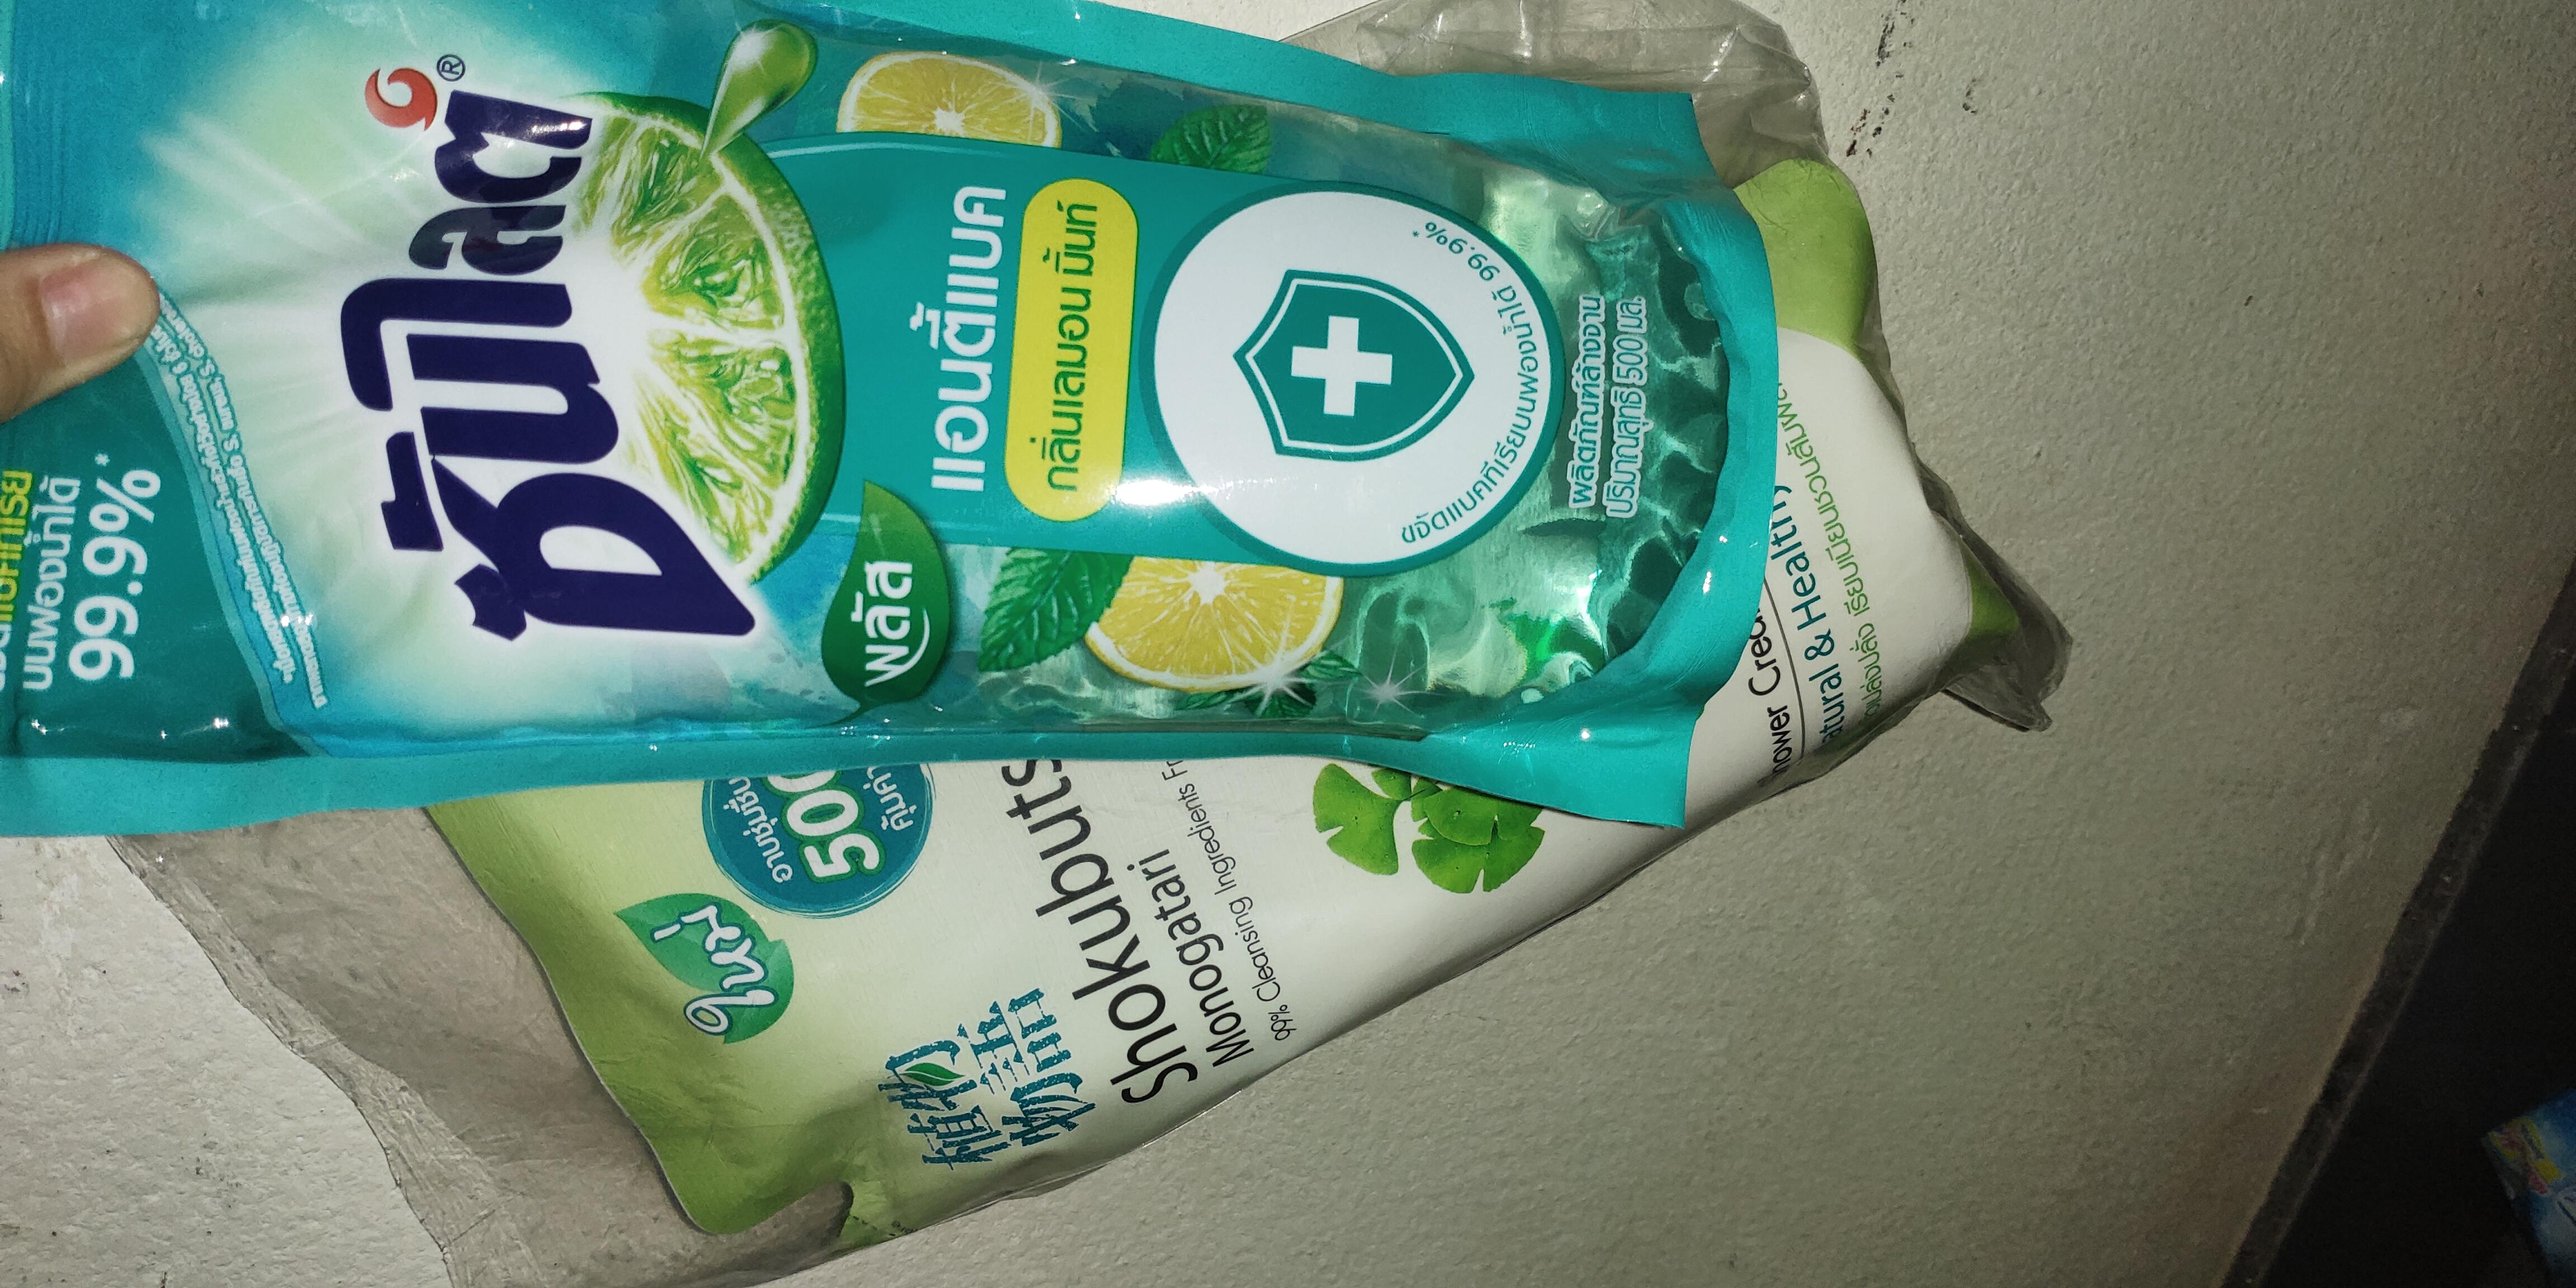plastic: (828, 0, 2576, 905)
